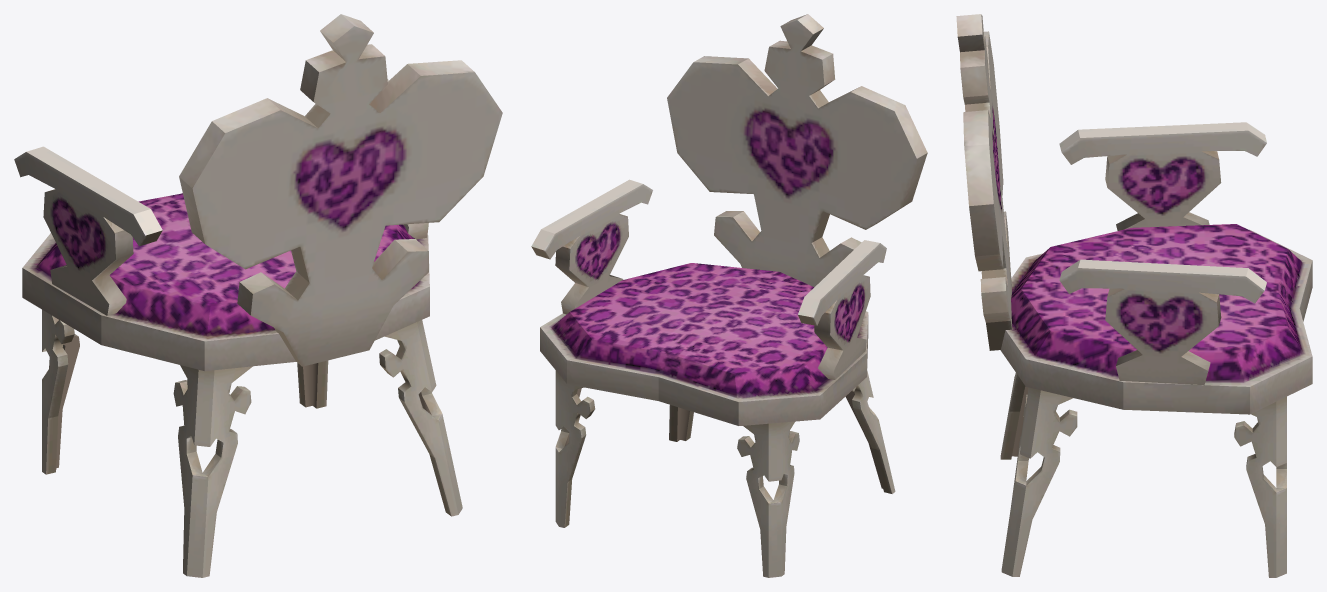
File: furni_0200079_02.FBX
3 views of the same model, side by side, from view 1: azimuth 30°, elevation 25°; view 2: azimuth 150°, elevation 25°; view 3: azimuth 270°, elevation 25° (orthographic). The views are drawn at different scales.
Visible parts, largest first — view 1: furni_0200079_02; view 2: furni_0200079_02; view 3: furni_0200079_02.
Boxes of the visible parts, x1,y1,x2,y2 form: furni_0200079_02: [14, 14, 502, 577]; furni_0200079_02: [531, 14, 927, 577]; furni_0200079_02: [956, 14, 1312, 577].
Bounding box in the file's own units: 67.75 × 99.68 × 64.29.
1 material, 1 textured.
